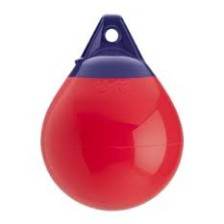buoy: (40, 77, 184, 211)
